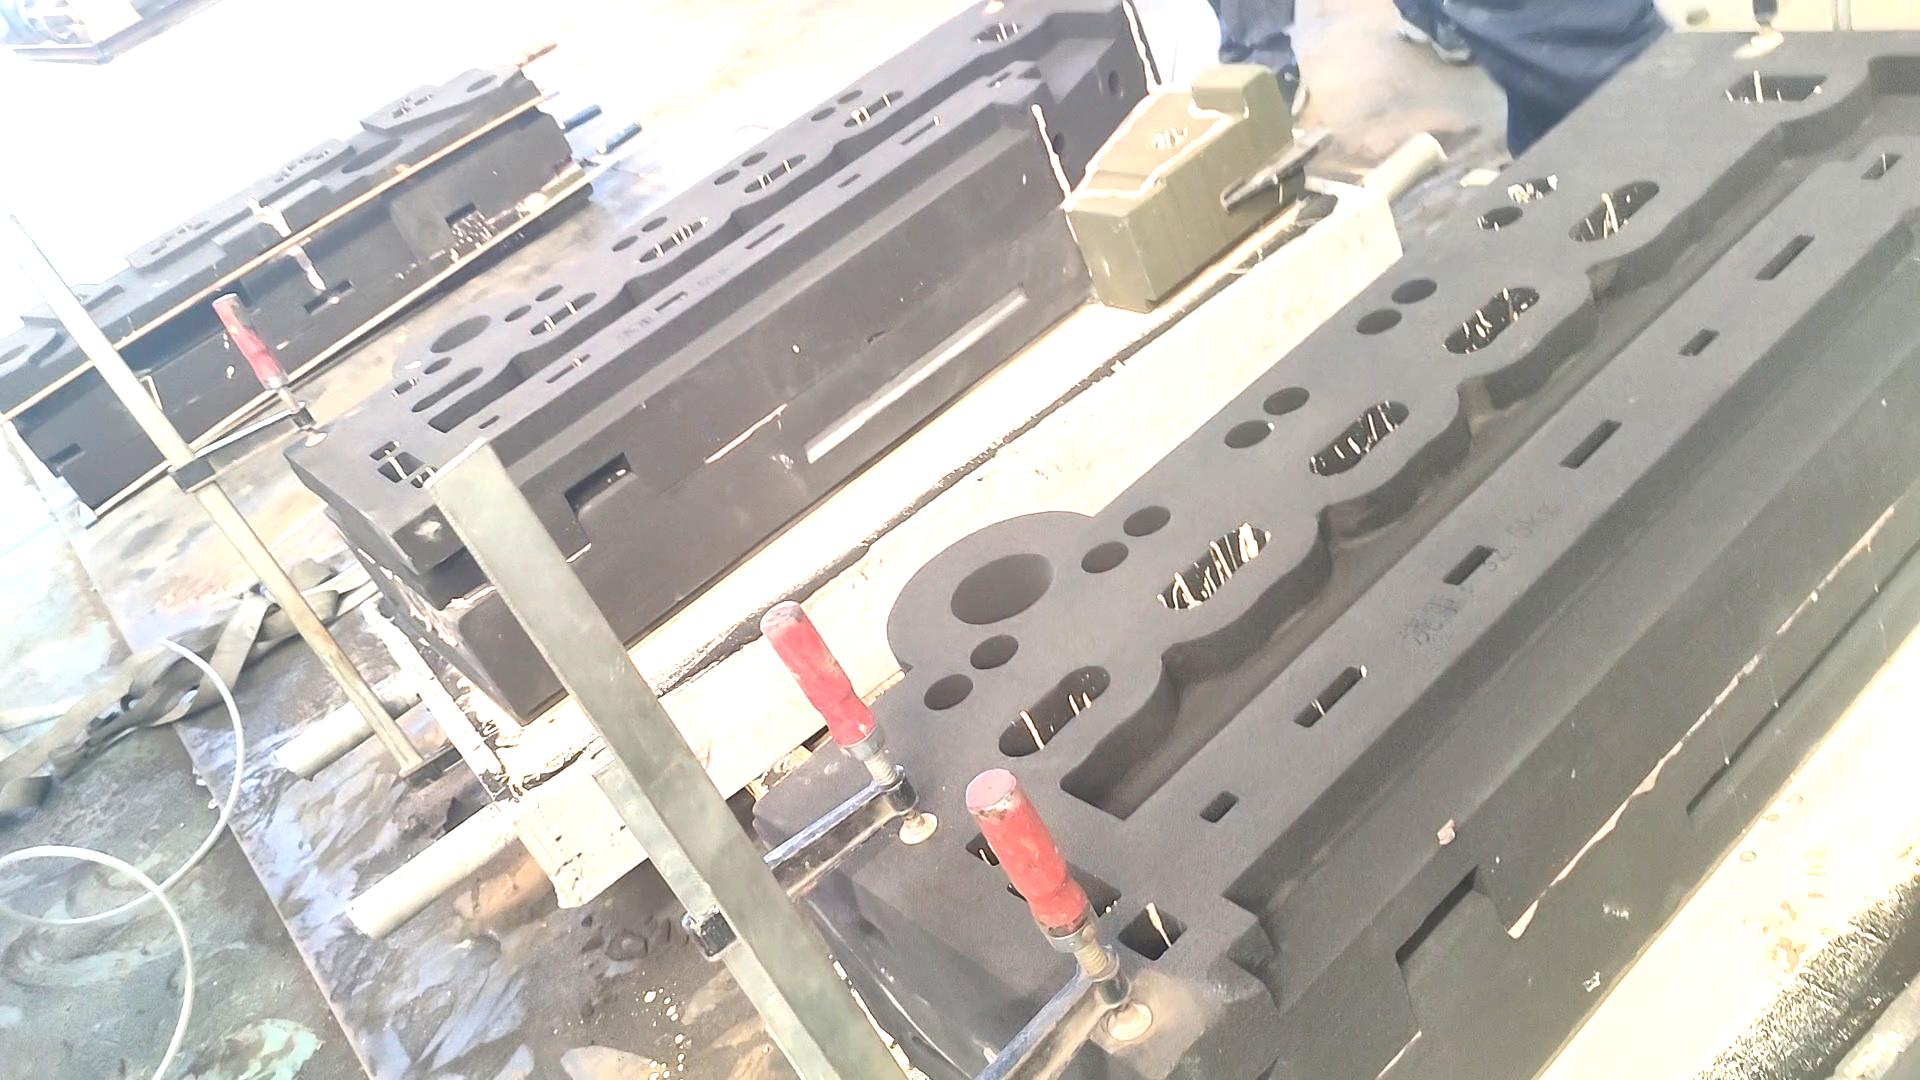pouring hole: (951, 553, 1054, 622), (430, 314, 492, 352), (465, 73, 498, 94), (1, 343, 28, 367)
